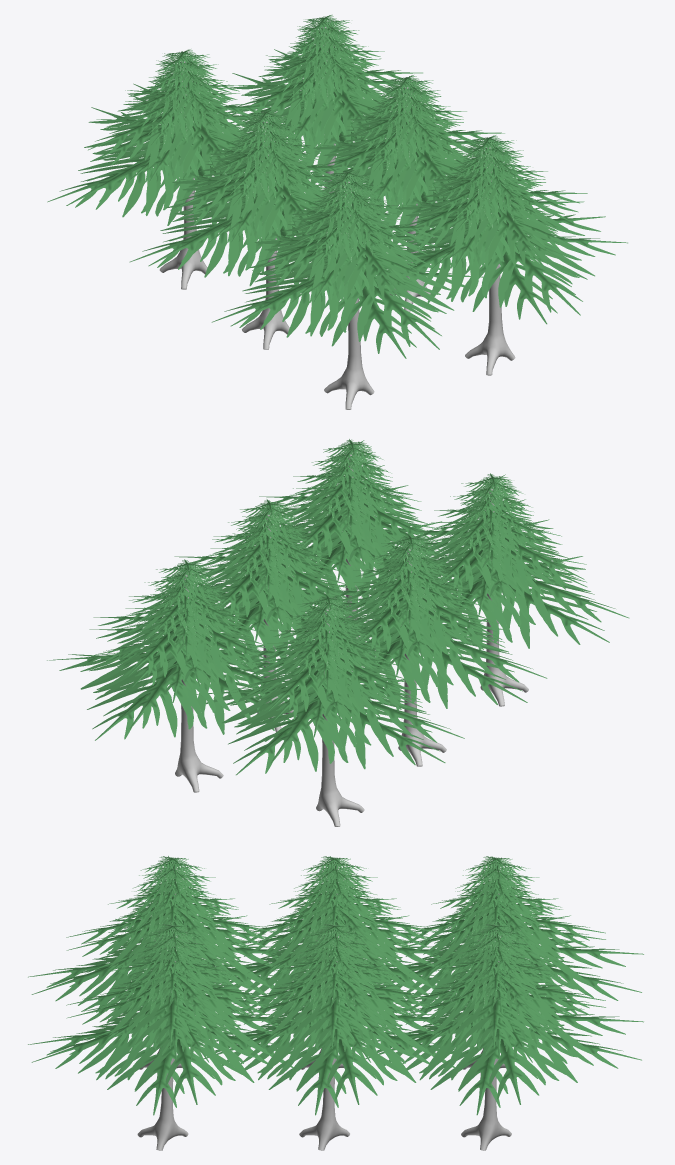
The model's file is TreesBarrier.fbx.
3 renders of one model, top to bottom at view 1: azimuth 30°, elevation 25°; view 2: azimuth 150°, elevation 25°; view 3: azimuth 270°, elevation 25°, orthographic.
Parts seen in each view (by area): view 1: Plane.011; view 2: Plane.011; view 3: Plane.011.
Part boxes in pixels (x1,y1,x2,y2): Plane.011: (47, 14, 627, 409); Plane.011: (47, 439, 629, 826); Plane.011: (28, 856, 643, 1150).
Size of the model in its own units: 16.23 by 8.14 by 21.87.
